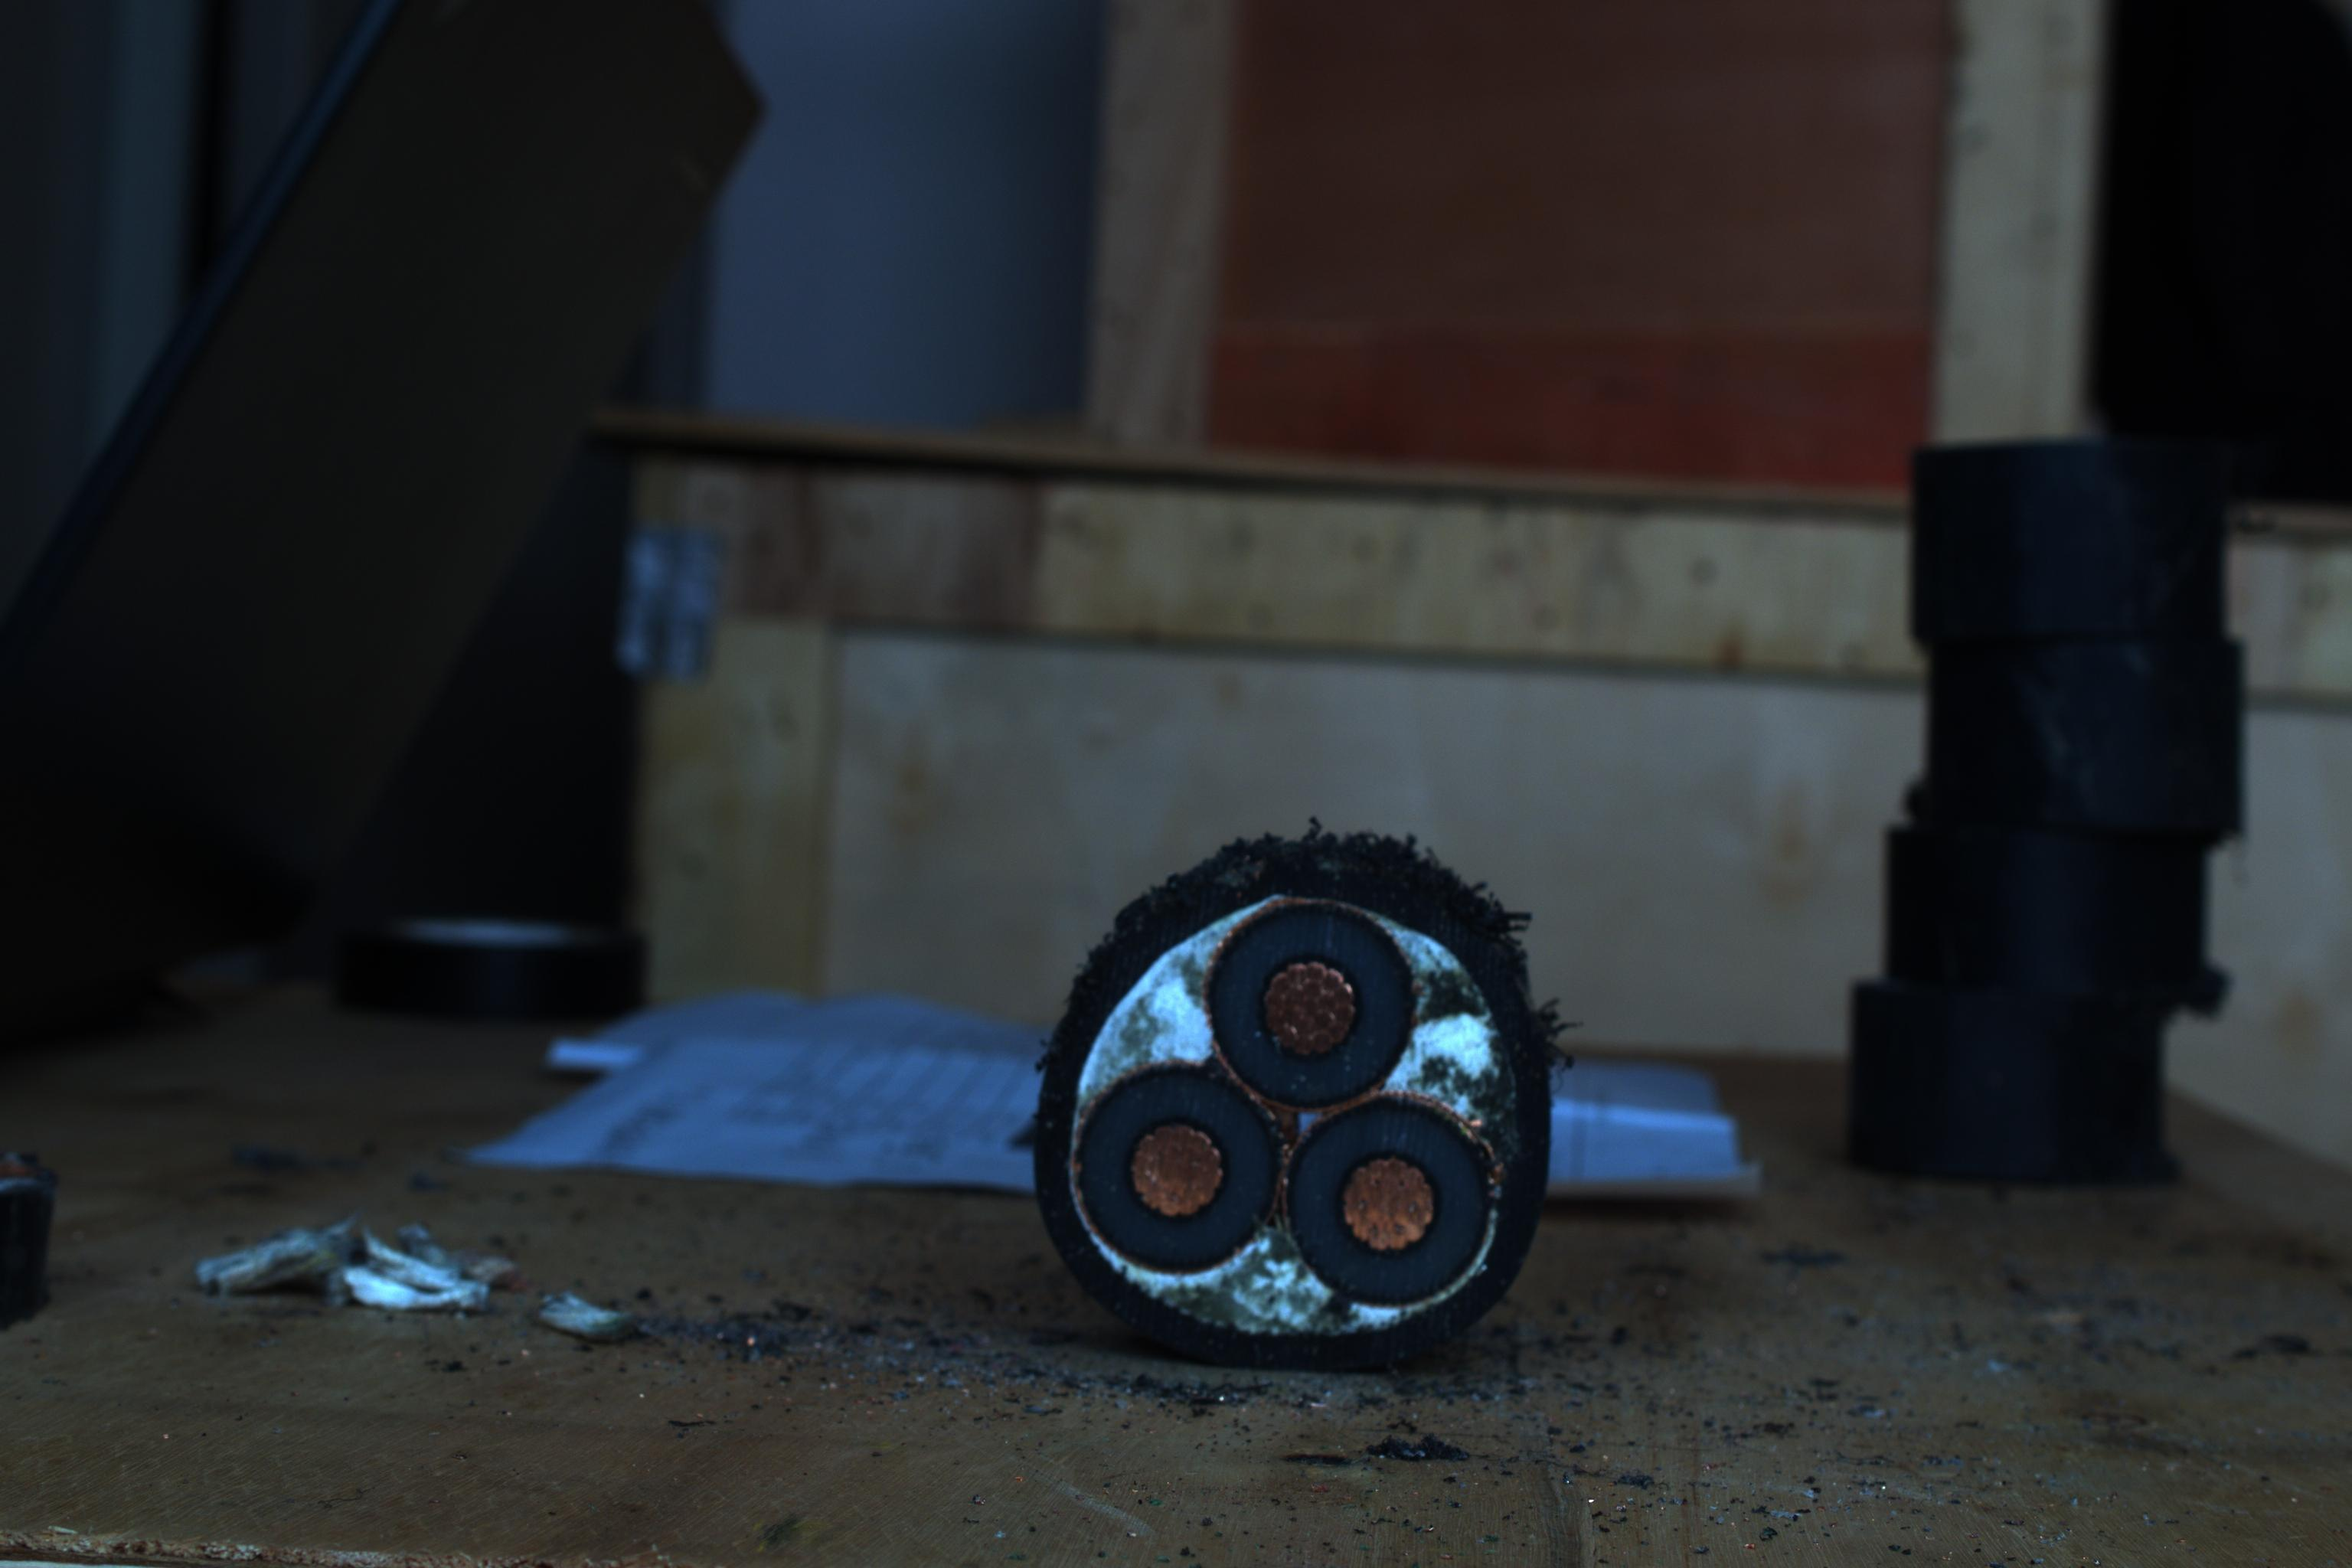YJV_8.7_10kV_3x70: (1024, 842, 1549, 1340)
